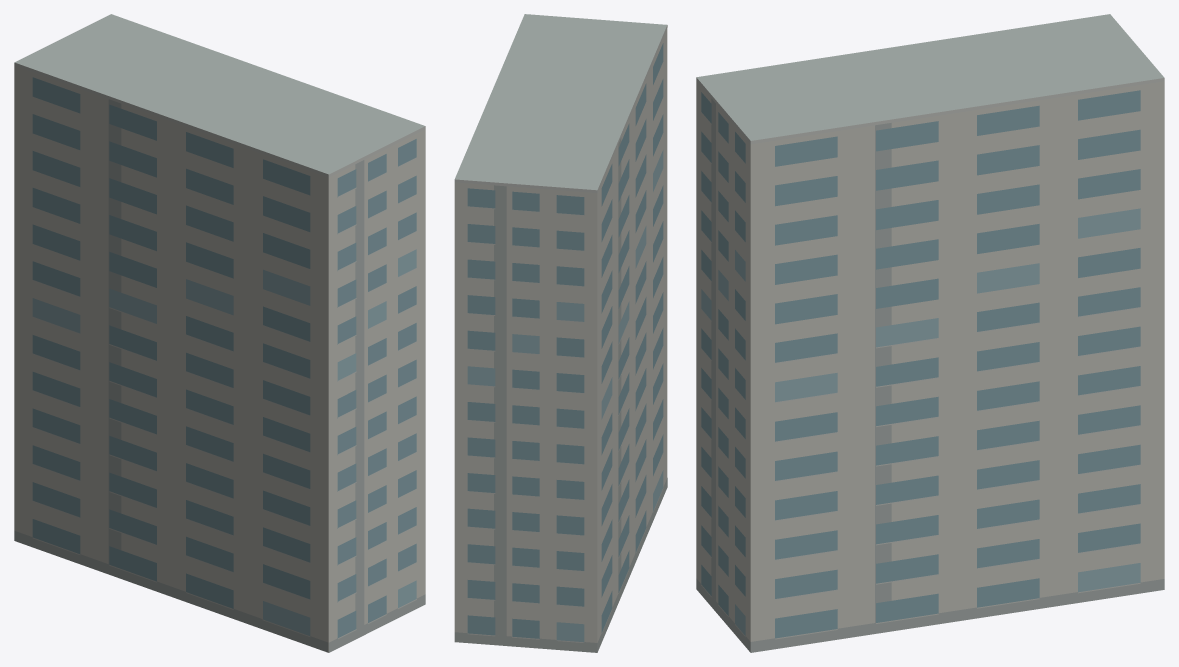
File: residential-8d9ac7d2-44ab-4cf1-908e-14ef9f0e6c62.glb
3 views of the same model, side by side, from view 1: azimuth 30°, elevation 25°; view 2: azimuth 150°, elevation 25°; view 3: azimuth 270°, elevation 25° (orthographic). The views are drawn at different scales.
Parts seen in each view (by area): view 1: residential-8d9ac7d2-44ab-4cf1-908e-14ef9f0e6c62.tmp; view 2: residential-8d9ac7d2-44ab-4cf1-908e-14ef9f0e6c62.tmp; view 3: residential-8d9ac7d2-44ab-4cf1-908e-14ef9f0e6c62.tmp.
Part boxes in pixels (x1,y1,x2,y2): residential-8d9ac7d2-44ab-4cf1-908e-14ef9f0e6c62.tmp: (14,14,425,652); residential-8d9ac7d2-44ab-4cf1-908e-14ef9f0e6c62.tmp: (454,14,667,652); residential-8d9ac7d2-44ab-4cf1-908e-14ef9f0e6c62.tmp: (696,14,1164,652).
Bounding box in the file's own units: 20.22 × 38 × 31.51.
